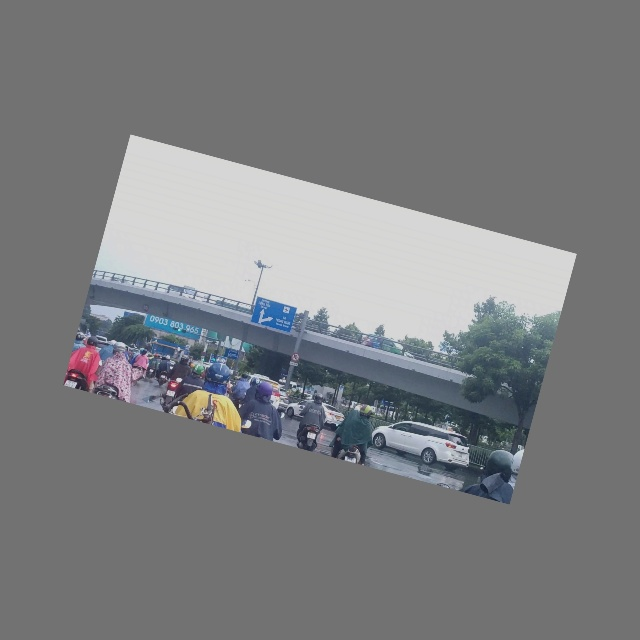P.124b1: (288, 351, 302, 365)
